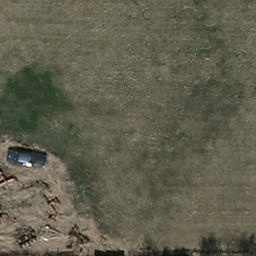car: (5, 147, 47, 171)
